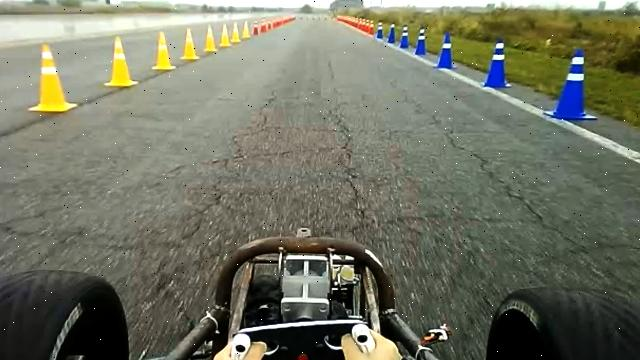blue cone: (544, 48, 598, 120), (483, 37, 512, 88), (435, 31, 457, 69), (415, 28, 427, 56), (400, 24, 410, 48), (387, 23, 396, 43), (376, 21, 384, 39)
yellow cone: (28, 43, 78, 112), (104, 36, 138, 87), (152, 31, 176, 70), (180, 28, 200, 60), (205, 24, 218, 52), (219, 23, 231, 48), (231, 22, 241, 43), (242, 20, 251, 40)
